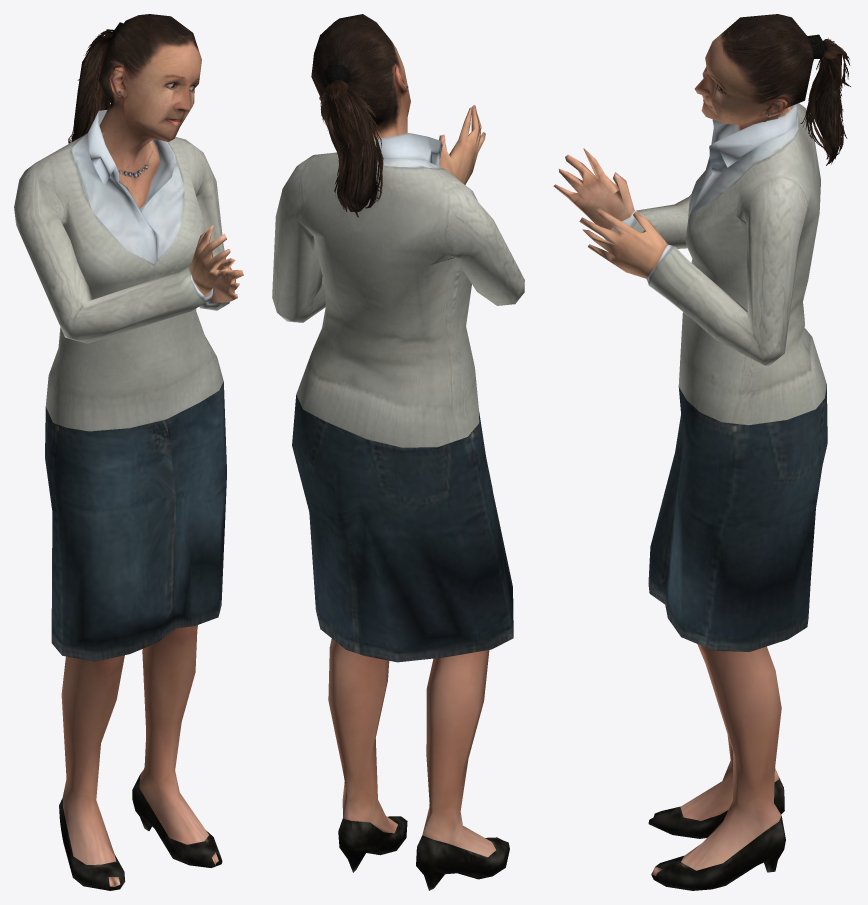
Rendered from Female_Adult_02_clap.glb.
3 views of the same model, side by side, from view 1: azimuth 30°, elevation 25°; view 2: azimuth 150°, elevation 25°; view 3: azimuth 270°, elevation 25° (orthographic). The views are drawn at different scales.
Visible parts, largest first — view 1: f002_hipoly_81_bones_opacity_b; view 2: f002_hipoly_81_bones_opacity_b; view 3: f002_hipoly_81_bones_opacity_b.
Boxes of the visible parts, bbox=[...] form: f002_hipoly_81_bones_opacity_b: bbox=[14, 14, 243, 890]; f002_hipoly_81_bones_opacity_b: bbox=[272, 14, 524, 890]; f002_hipoly_81_bones_opacity_b: bbox=[553, 14, 850, 890].
Size of the model in its own units: 0.4661 by 1.72 by 0.5438.
Materials: 3 (3 with a texture image).
